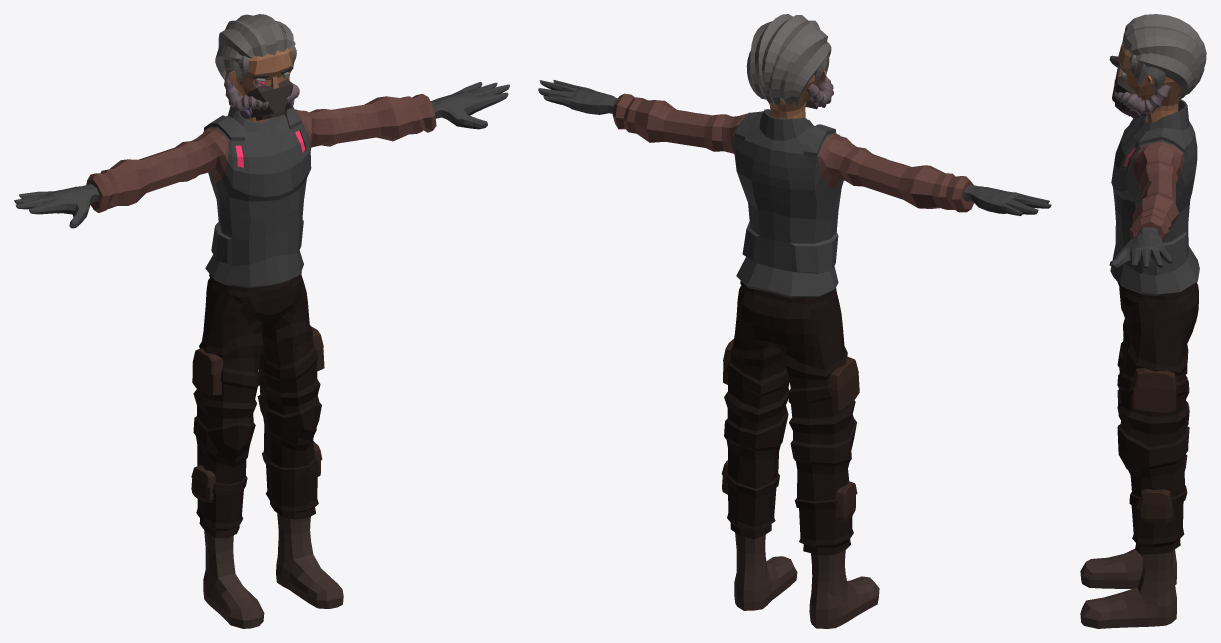
File: Cyberpunk characters moedels11.fbx
The picture shows the model from 3 angles, left to right: view 1: azimuth 30°, elevation 25°; view 2: azimuth 150°, elevation 25°; view 3: azimuth 270°, elevation 25°; orthographic projection. The views are drawn at different scales.
Parts seen in each view (by area): view 1: Cyberpunk_characters11; view 2: Cyberpunk_characters11; view 3: Cyberpunk_characters11.
Part boxes in pixels (<box>): Cyberpunk_characters11: <box>14,14,509,628</box>; Cyberpunk_characters11: <box>538,14,1051,628</box>; Cyberpunk_characters11: <box>1080,14,1206,628</box>.
Size of the model in its own units: 168 by 186 by 36.4.
